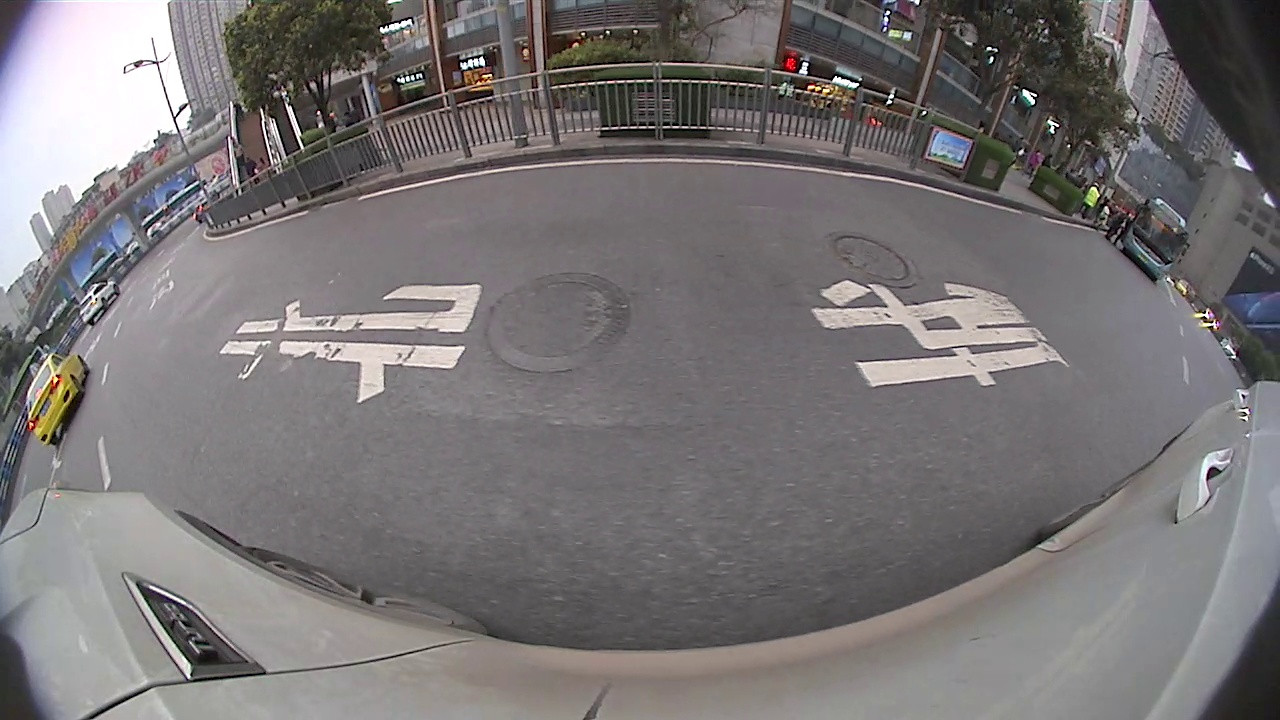car: (606, 29, 890, 182), (1020, 204, 1180, 381), (91, 218, 156, 286), (1023, 200, 1090, 242)
front: (828, 130, 870, 183), (1140, 359, 1167, 384), (111, 254, 128, 273)
rear: (648, 98, 707, 154), (1104, 347, 1139, 375), (96, 271, 110, 286)
